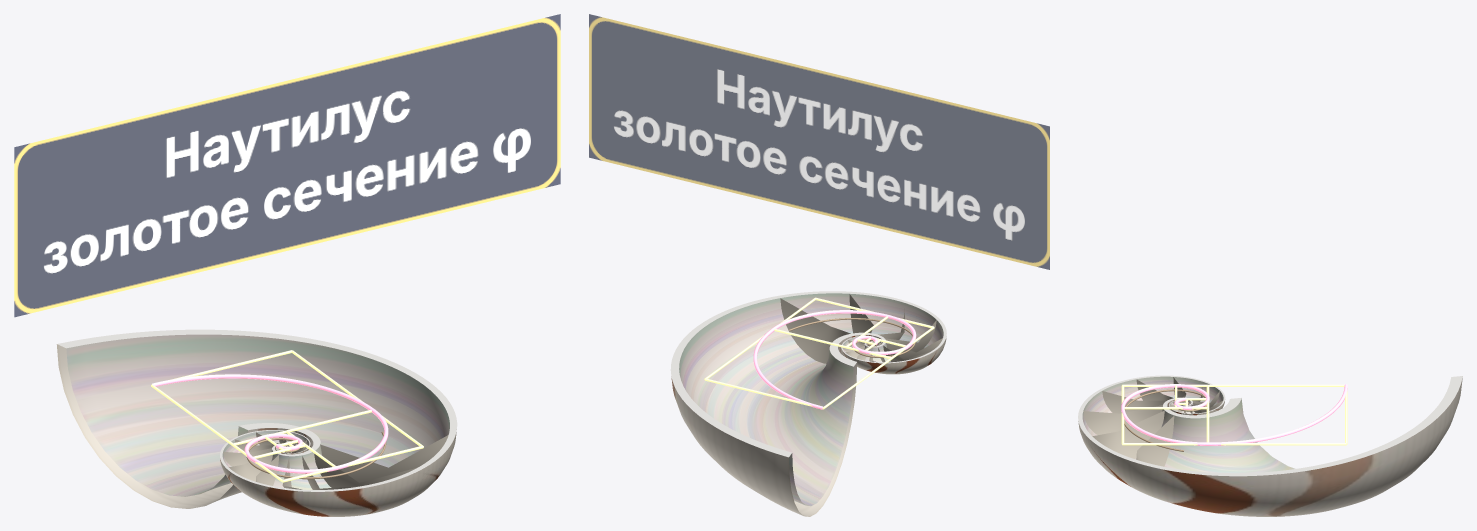
Rendered from nautilus.glb.
The picture shows the model from 3 angles, left to right: view 1: azimuth 30°, elevation 25°; view 2: azimuth 150°, elevation 25°; view 3: azimuth 270°, elevation 25°; orthographic projection. The views are drawn at different scales.
Bounding box in the file's own units: 0.2281 × 0.1802 × 0.1628.
42 materials, 5 textured.
